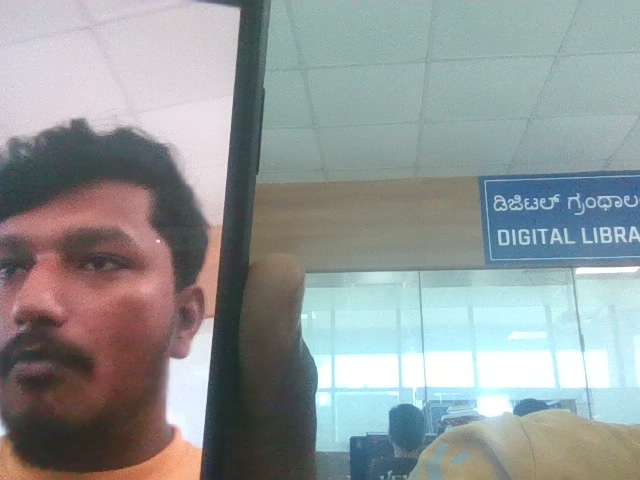fake: (0, 92, 255, 454)
